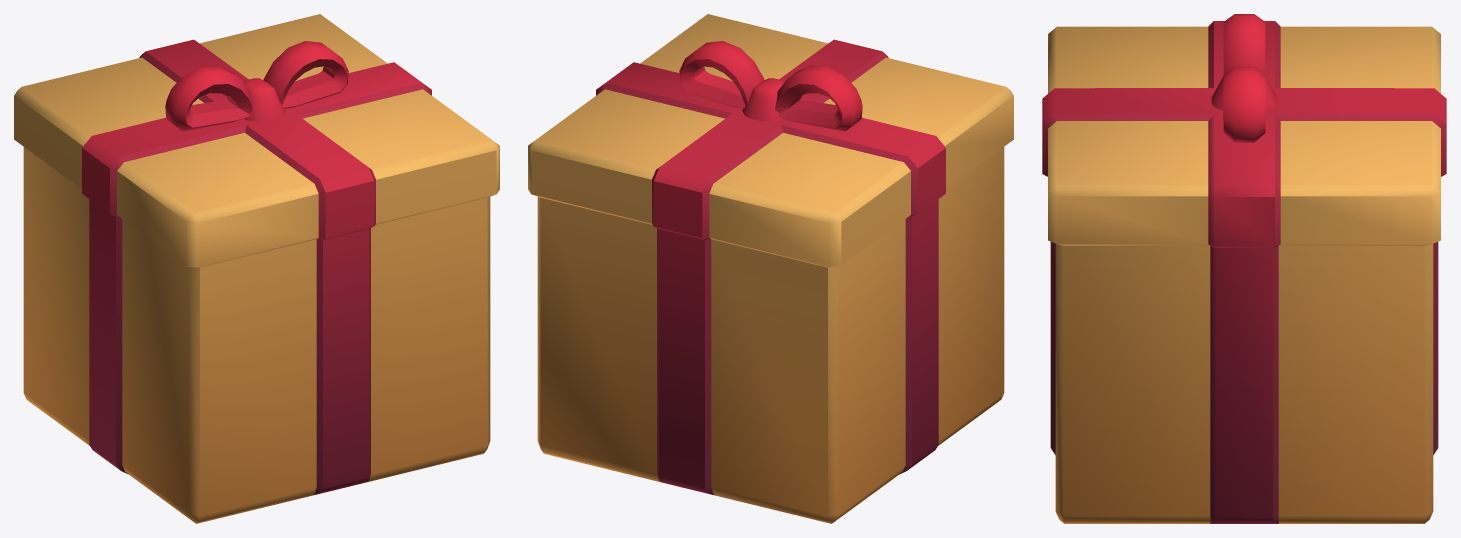
The model's file is present_D_yellow.fbx.
The picture shows the model from 3 angles, left to right: view 1: azimuth 30°, elevation 25°; view 2: azimuth 150°, elevation 25°; view 3: azimuth 270°, elevation 25°; orthographic projection. The views are drawn at different scales.
Visible parts, largest first — view 1: present_D_yellow; view 2: present_D_yellow; view 3: present_D_yellow.
Part boxes in pixels (left/top/right/bottom): present_D_yellow: left=14, top=14, right=499, bottom=523; present_D_yellow: left=528, top=14, right=1013, bottom=523; present_D_yellow: left=1042, top=14, right=1446, bottom=523.
Bounding box in the file's own units: 0.9638 × 1.06 × 0.9638.
